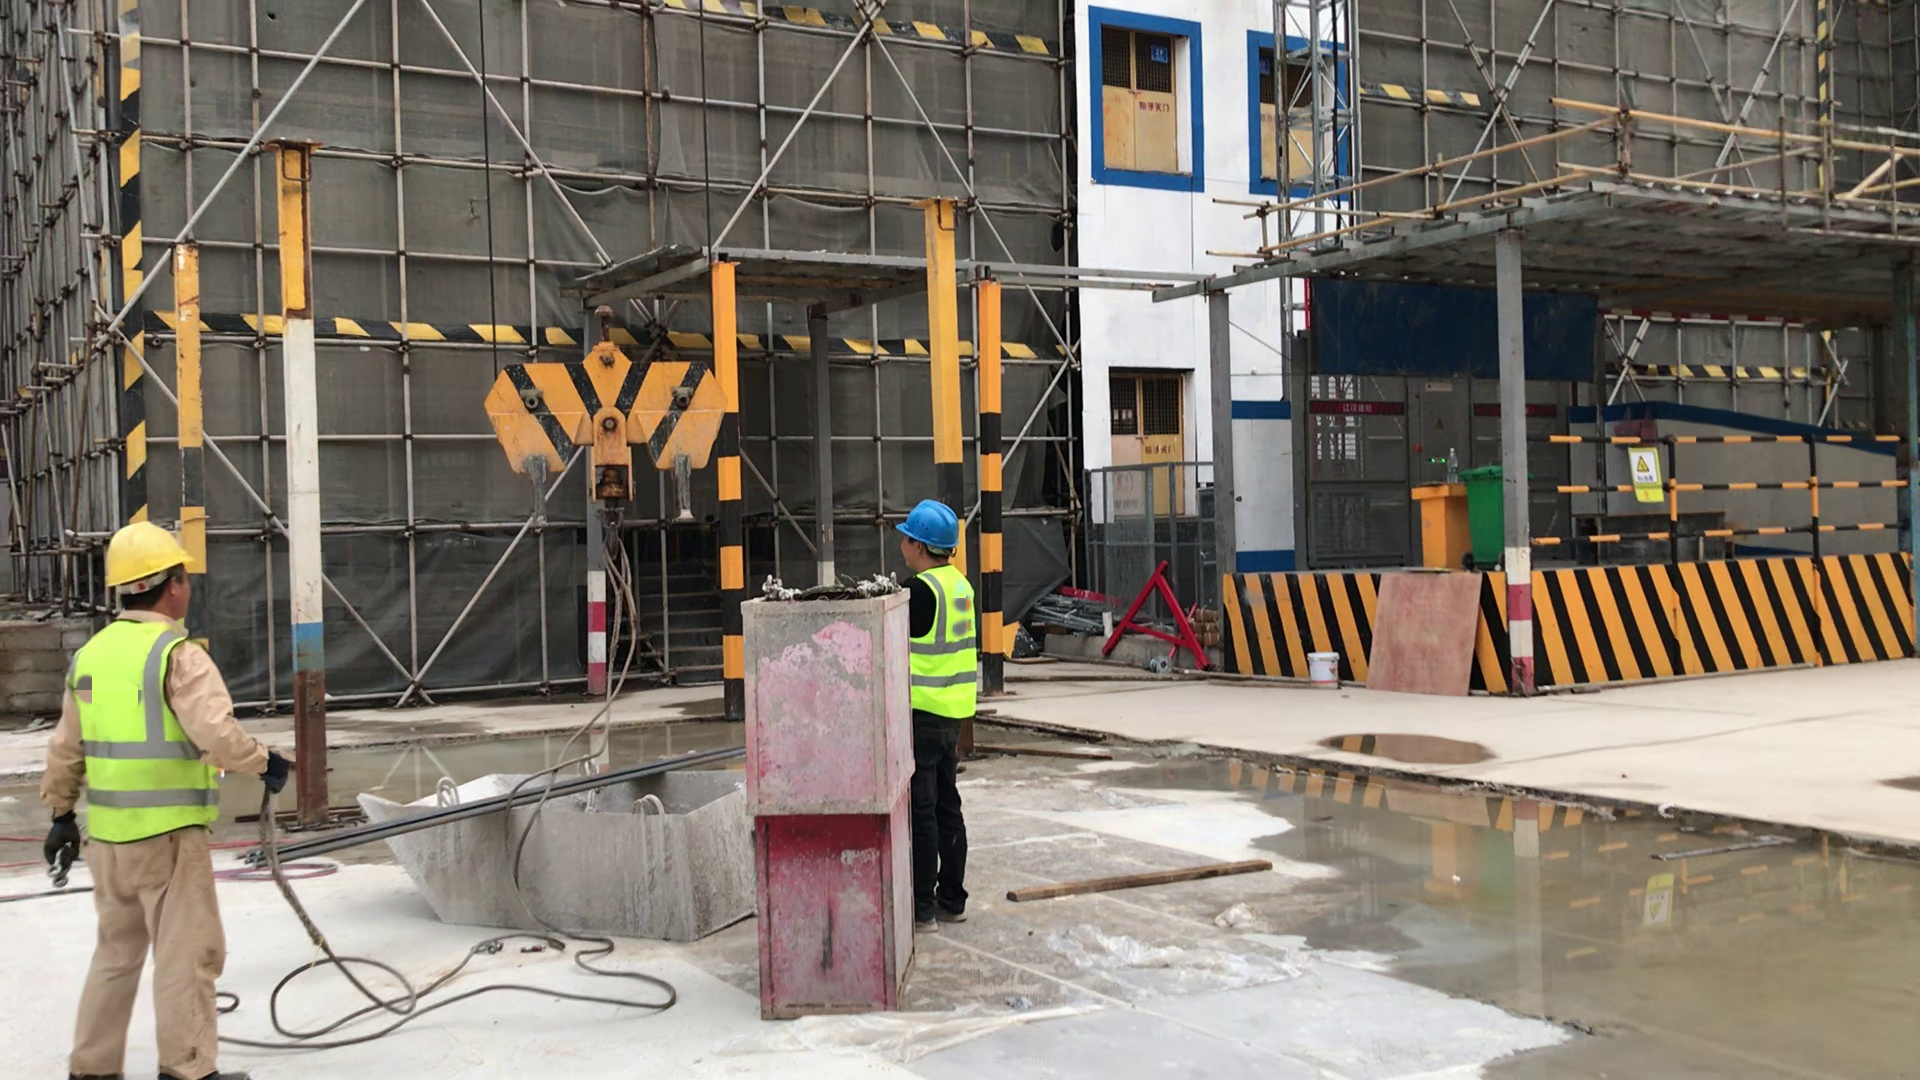fence: (1518, 424, 1920, 570)
helmet: (96, 510, 198, 596), (893, 492, 974, 556)
hook: (464, 300, 758, 570)
hopper: (340, 724, 773, 950)
person: (32, 501, 293, 1080), (862, 472, 1020, 937)
rebar: (250, 809, 518, 862), (477, 777, 698, 797)
slogan: (1610, 428, 1677, 518)
vest: (39, 608, 236, 849), (902, 557, 1002, 732)
